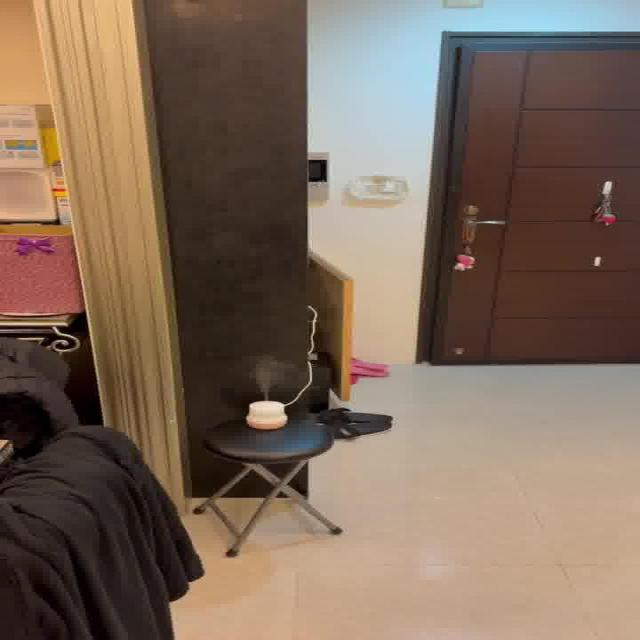fire: (247, 356, 294, 398)
